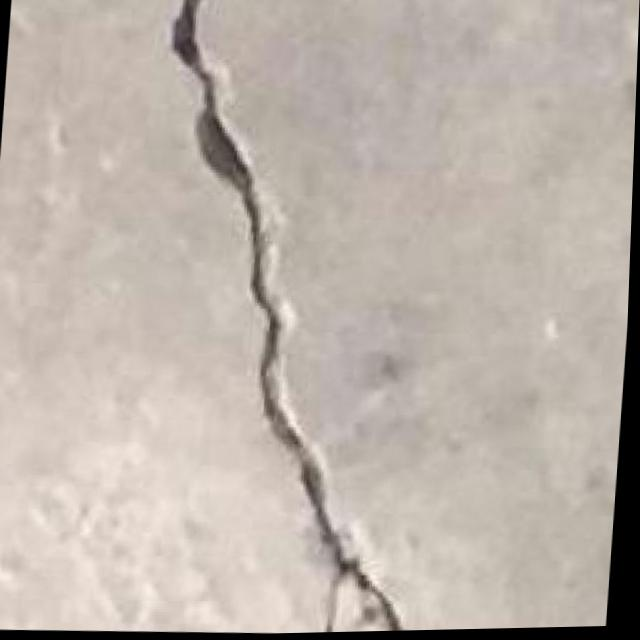Crack: (118, 0, 474, 638)
